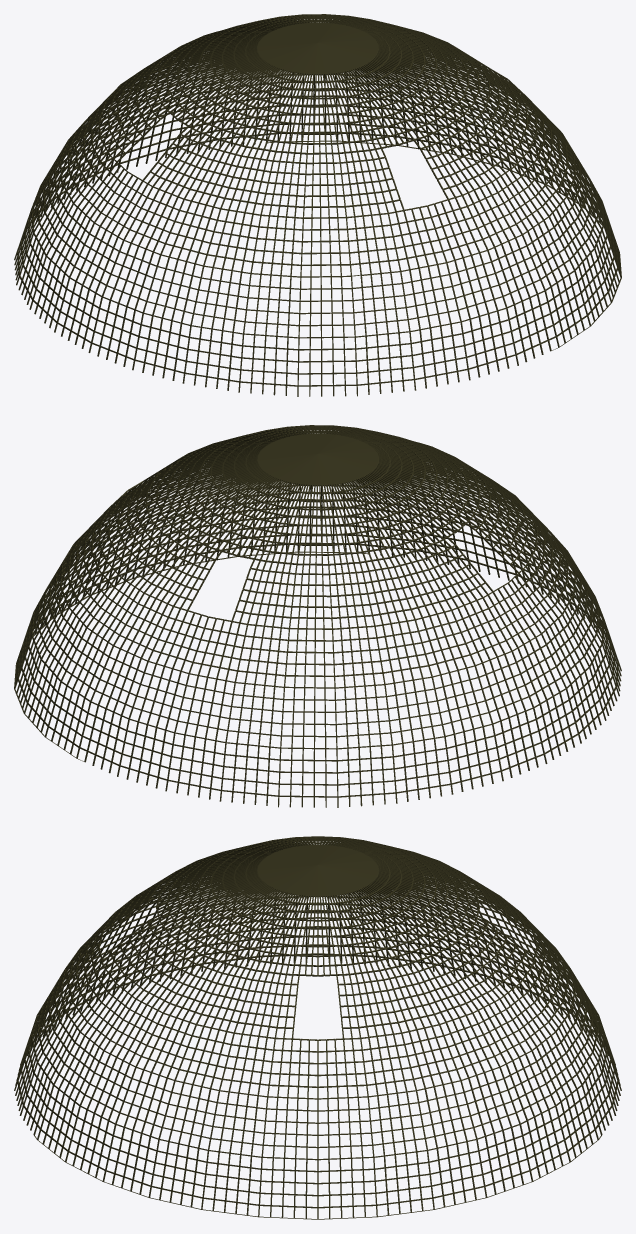
The model's file is FS_Cage2.fbx.
The picture shows the model from 3 angles, top to bottom: view 1: azimuth 30°, elevation 25°; view 2: azimuth 150°, elevation 25°; view 3: azimuth 270°, elevation 25°; orthographic projection.
Parts seen in each view (by area): view 1: Sphere; view 2: Sphere; view 3: Sphere.
Part boxes in pixels (box(x1,y1,x2,y2)): Sphere: box(14, 14, 621, 396); Sphere: box(14, 425, 621, 807); Sphere: box(14, 836, 621, 1219).
Bounding box in the file's own units: 980 × 403 × 980.
